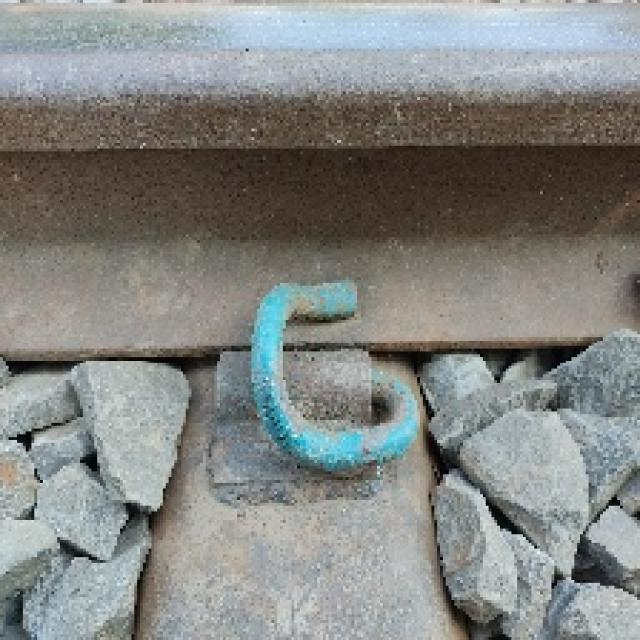Good Fasteners: (206, 280, 417, 503)
